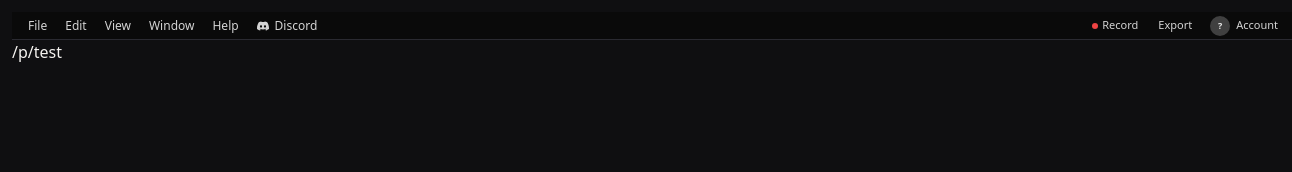
MenuBar › offers the profile and the way out from the account menu
Click the button "? Account" at (1244, 26), box x1=1204 y1=14 x2=1284 y2=38
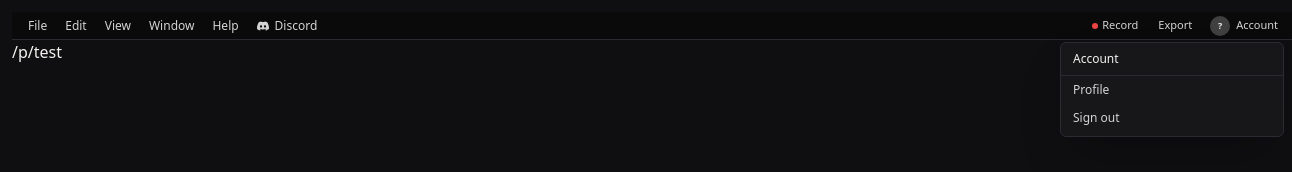
Result: the menu item "Profile" is shown at x1=1061 y1=76 x2=1283 y2=104
Result: the menu item "Sign out" is shown at x1=1061 y1=104 x2=1283 y2=132
